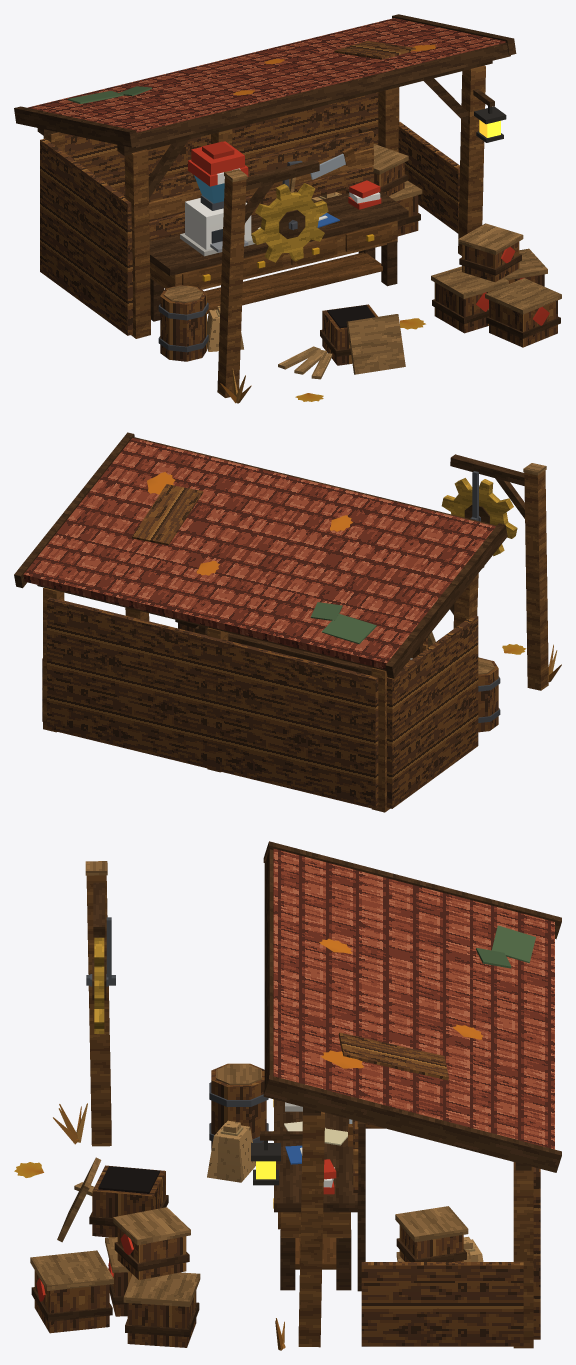
The model's file is workshop.glb.
3 renders of one model, top to bottom at view 1: azimuth 30°, elevation 25°; view 2: azimuth 150°, elevation 25°; view 3: azimuth 270°, elevation 25°, orthographic. The views are drawn at different scales.
Parts seen in each view (by area): view 1: workshop, spinY_gear; view 2: workshop, spinY_gear; view 3: workshop, spinY_gear.
Boxes of the visible parts, left/top/right/bottom form: workshop: left=14, top=14, right=561, bottom=403; spinY_gear: left=251, top=183, right=328, bottom=262; workshop: left=14, top=432, right=561, bottom=812; spinY_gear: left=441, top=478, right=517, bottom=556; workshop: left=14, top=841, right=561, bottom=1350; spinY_gear: left=90, top=937, right=108, bottom=1033.
Size of the model in its own units: 5.64 by 3.12 by 5.49.
Materials: 34 (10 with a texture image).
